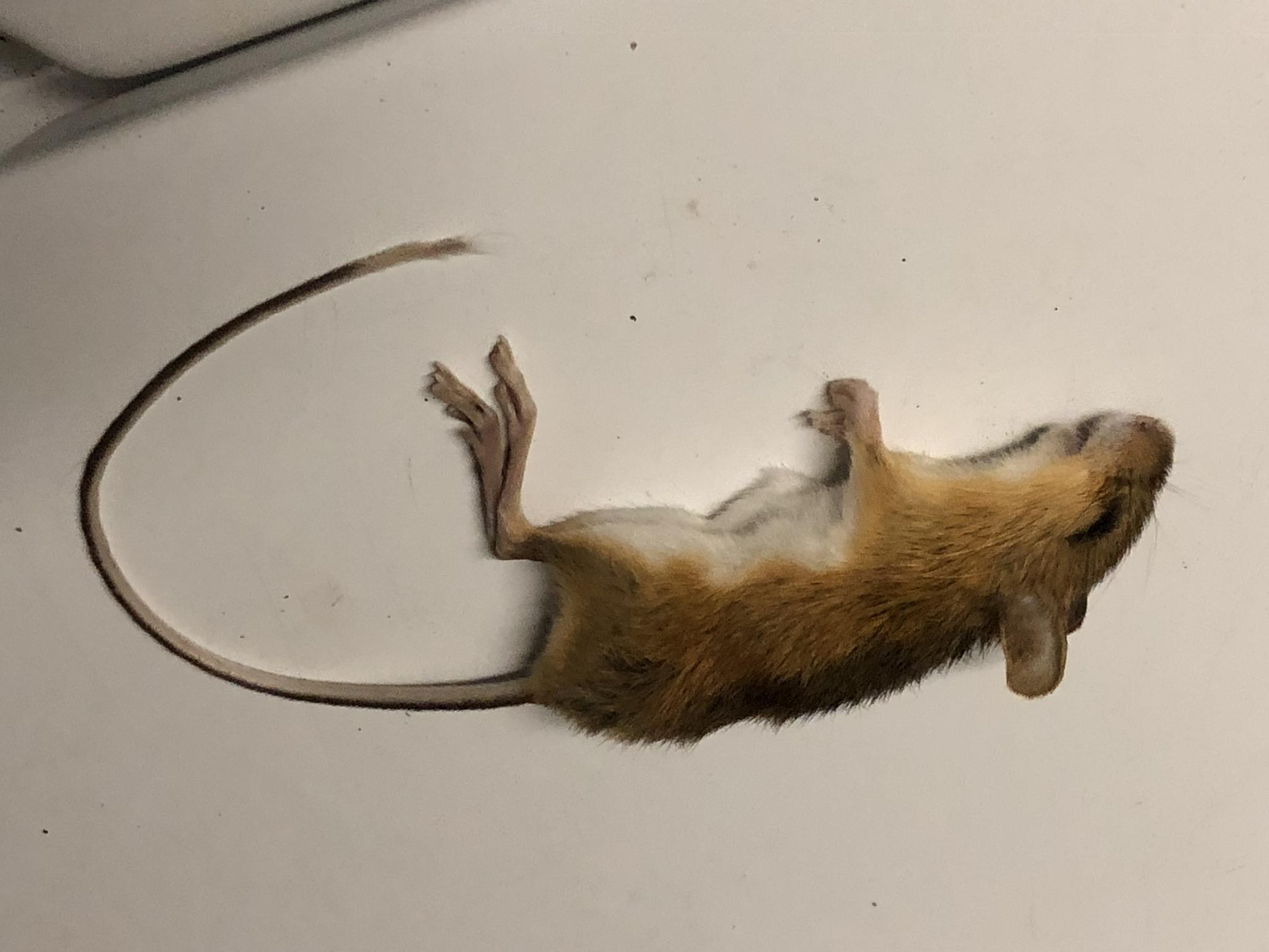rat: (81, 235, 1176, 747)
